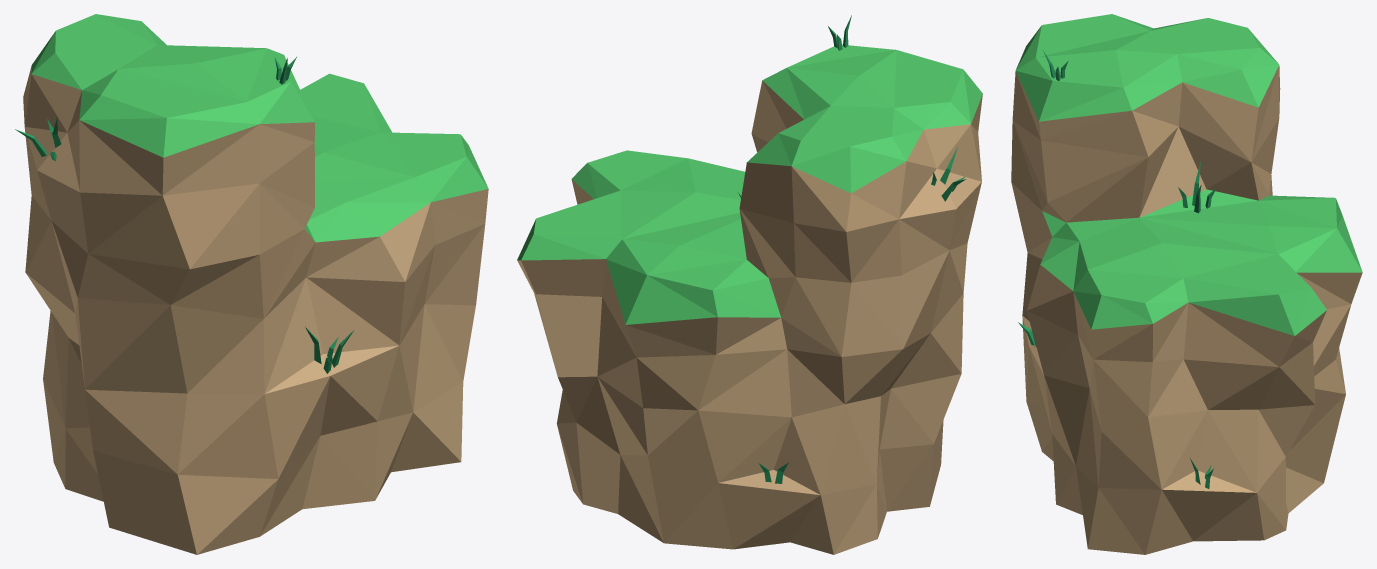
File: Cliff.obj
The picture shows the model from 3 angles, left to right: view 1: azimuth 30°, elevation 25°; view 2: azimuth 150°, elevation 25°; view 3: azimuth 270°, elevation 25°; orthographic projection. The views are drawn at different scales.
Visible parts, largest first — view 1: Plane, Circle.000; view 2: Plane; view 3: Plane, Circle.012_Circle.000_Circle.012_Circle.001.
Part boxes in pixels (bbox=[...]): Plane: bbox=[23, 14, 488, 554]; Circle.000: bbox=[305, 327, 353, 373]; Plane: bbox=[517, 44, 982, 554]; Plane: bbox=[1011, 14, 1362, 554]; Circle.012_Circle.000_Circle.012_Circle.001: bbox=[1178, 161, 1216, 213].
Size of the model in its own units: 4.23 by 4.31 by 3.31.
Materials: 1 (1 with a texture image).
